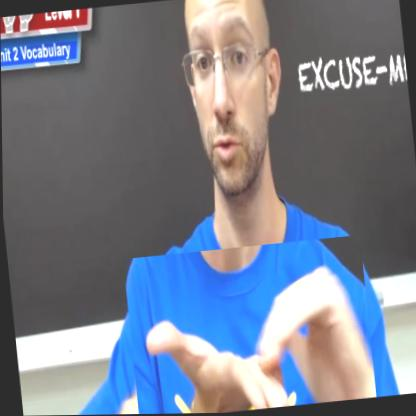ExcuseMe: (122, 236, 376, 415)
